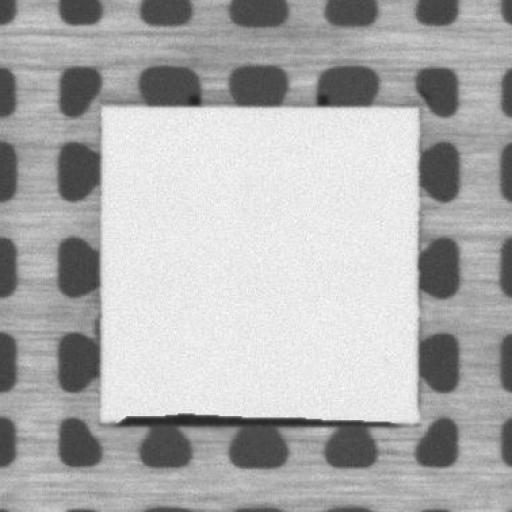DIE_BROKEN: (110, 404, 408, 428)
